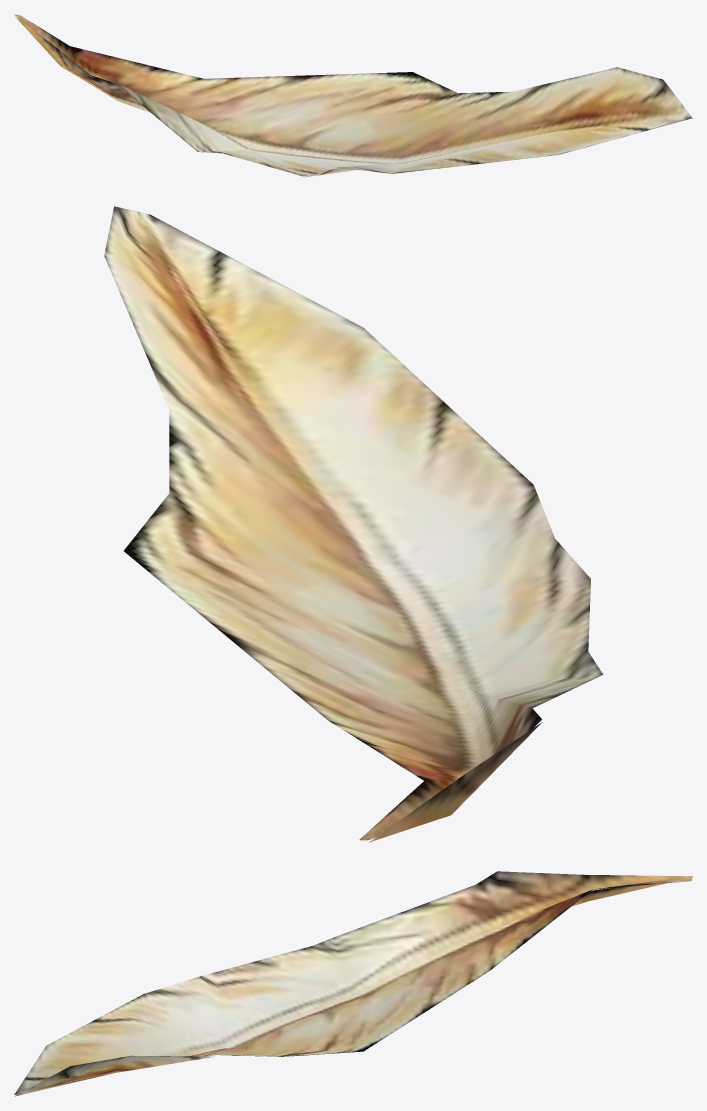
The model's file is GarudaFeather.glb.
The picture shows the model from 3 angles, top to bottom: view 1: azimuth 30°, elevation 25°; view 2: azimuth 150°, elevation 25°; view 3: azimuth 270°, elevation 25°; orthographic projection. The views are drawn at different scales.
Visible parts, largest first — view 1: model_GarudaFeather; view 2: model_GarudaFeather; view 3: model_GarudaFeather.
Boxes of the visible parts, bbox=[...] form: model_GarudaFeather: bbox=[14, 14, 692, 177]; model_GarudaFeather: bbox=[104, 206, 603, 842]; model_GarudaFeather: bbox=[14, 871, 692, 1096].
Size of the model in its own units: 0.5272 by 0.1078 by 0.6507.
Materials: 1 (1 with a texture image).
